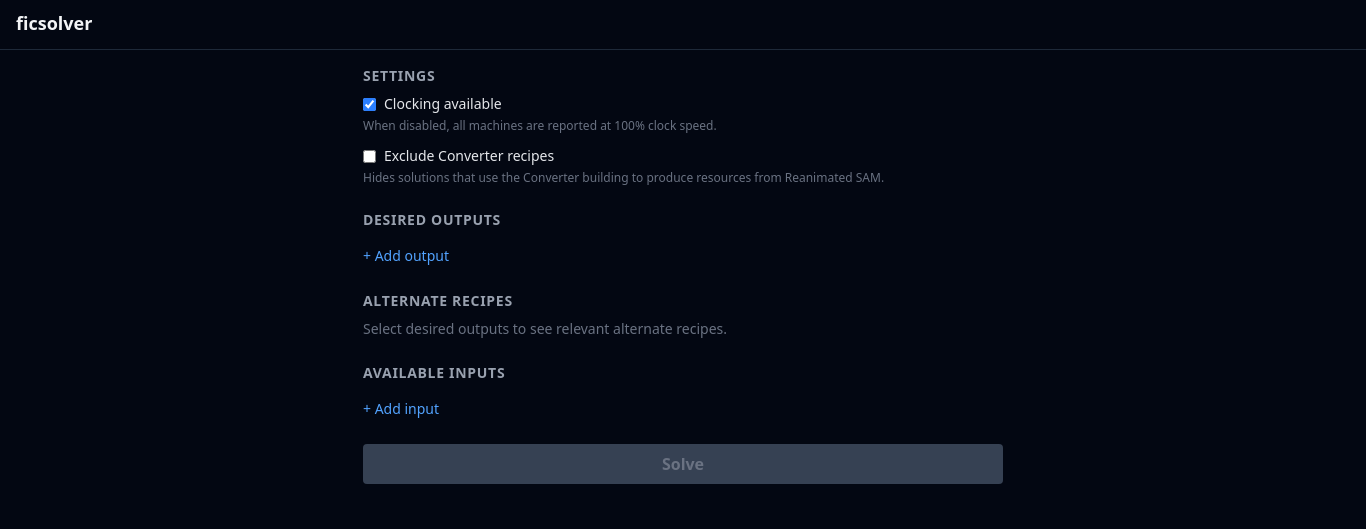
Test: App › shows no matches when API returns no items
This screenshot has width=1366, height=529.
Click the button "+ Add input": (401, 409) [363, 399, 439, 419]
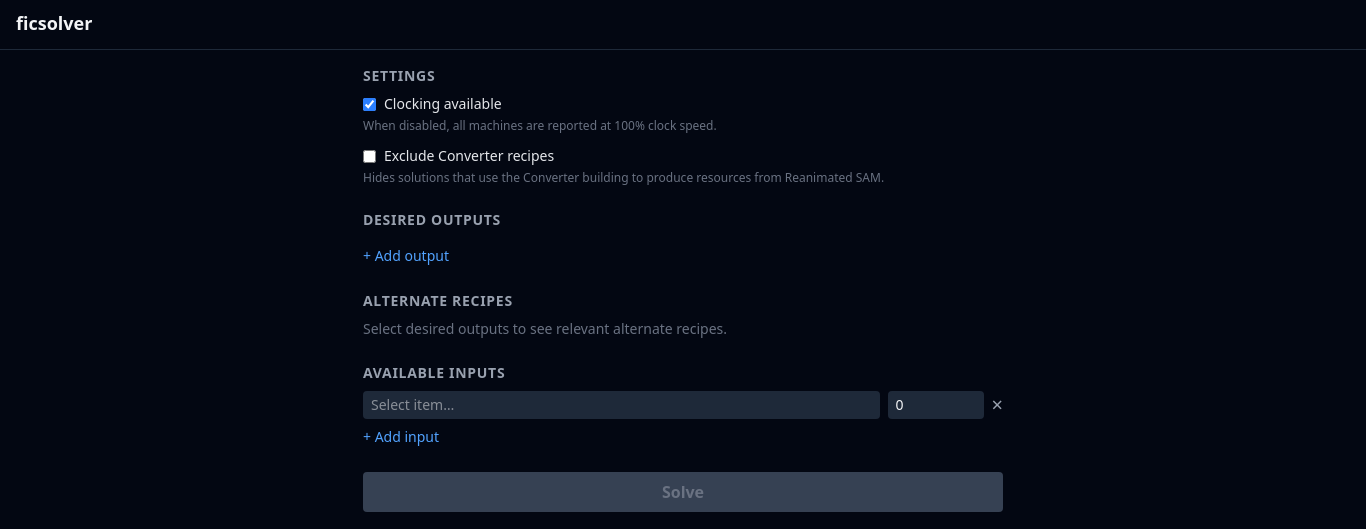
In the field named "Input item": (621, 405) [363, 391, 880, 419], type "iron"
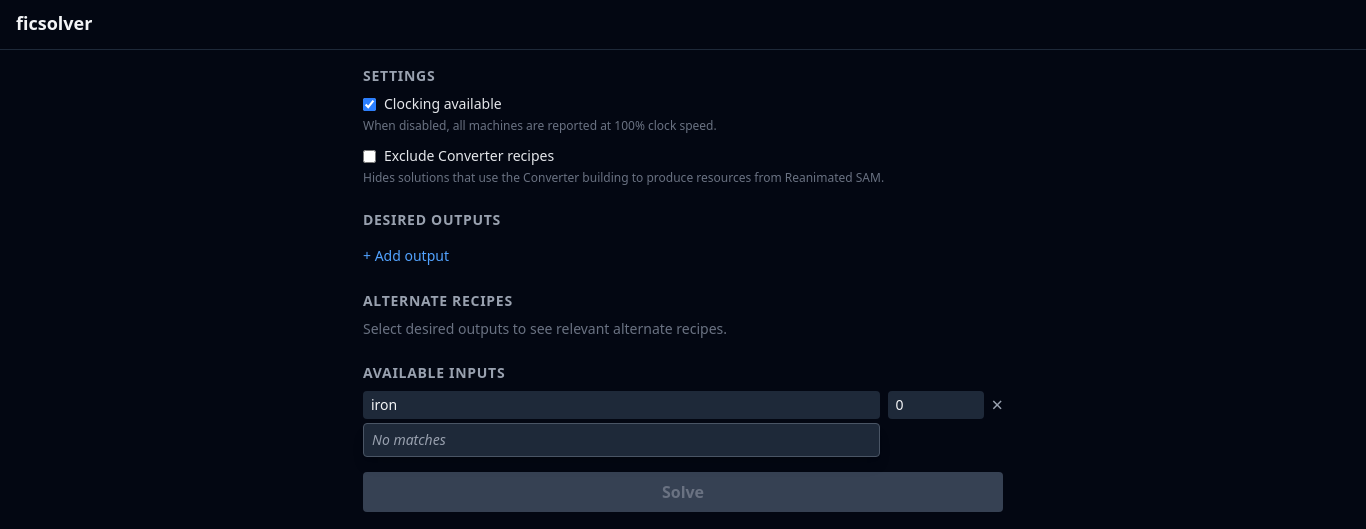
Expected: the list item "No matches" is shown, [372, 430, 446, 449]
